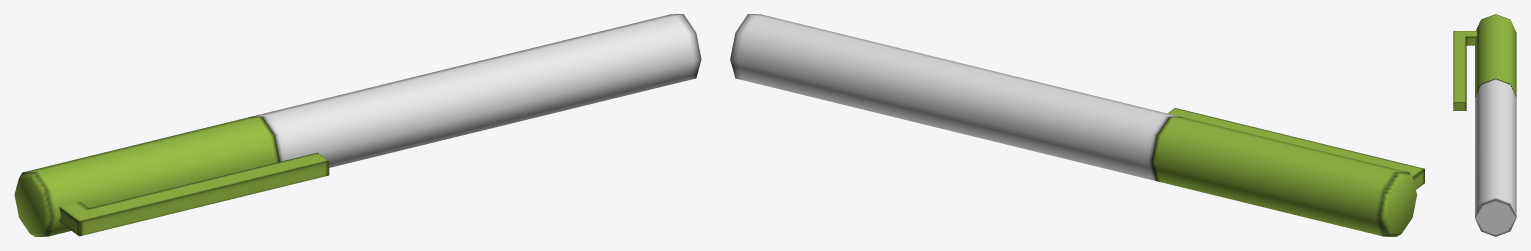
File: pen2.fbx
3 views of the same model, side by side, from view 1: azimuth 30°, elevation 25°; view 2: azimuth 150°, elevation 25°; view 3: azimuth 270°, elevation 25° (orthographic). The views are drawn at different scales.
Parts seen in each view (by area): view 1: polySurface463; view 2: polySurface463; view 3: polySurface463.
Boxes of the visible parts, x1,y1,x2,y2 form: polySurface463: (14,14,701,236); polySurface463: (730,14,1424,236); polySurface463: (1453,14,1516,236).
Bounding box in the file's own units: 0.1852 × 0.0175 × 0.0265.
